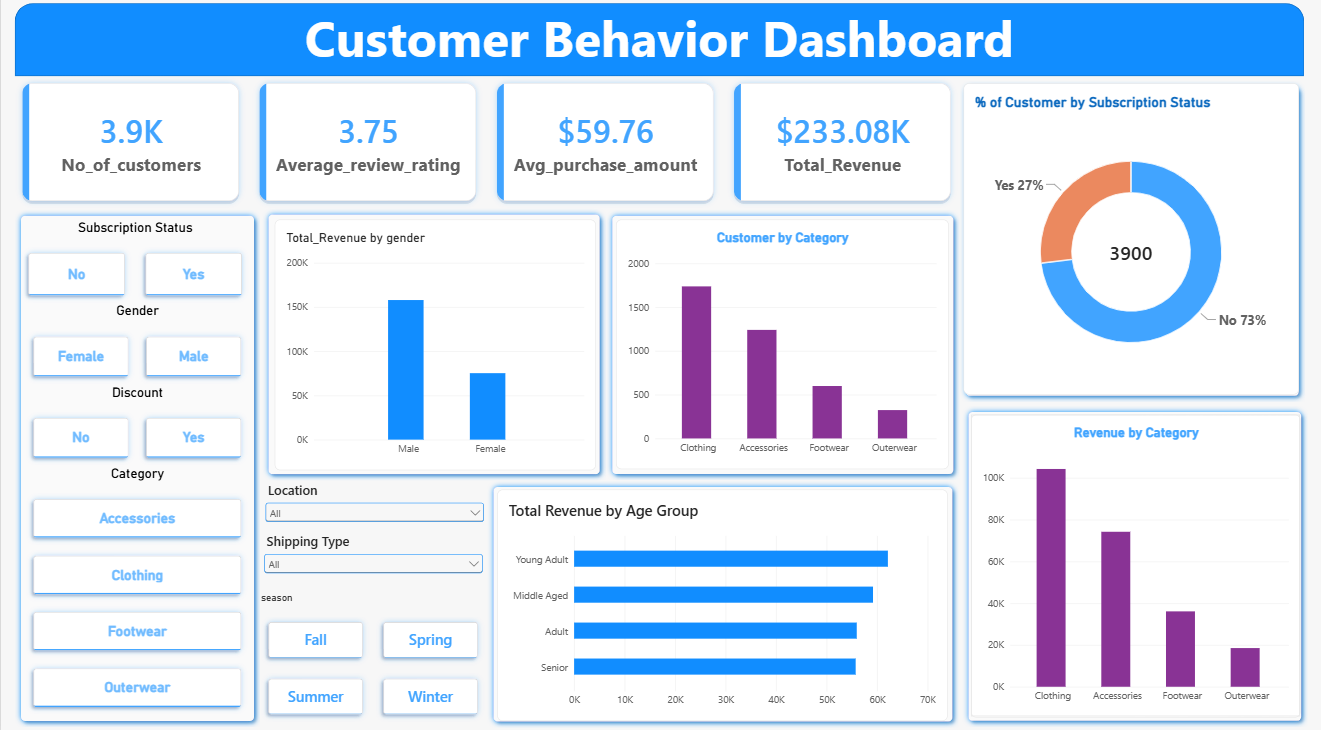

This screenshot's page, from the dashboard's own definition file:
{"tool":"powerbi","page":{"name":"Page 1","canvas":[1920,1080],"ordinal":0},"visuals":[{"type":"cardVisual","fields":{"Data":["customer_behavior customer.No_of_customers","customer_behavior customer.Average_review_rating","customer_behavior customer.Avg_purchase_amount","customer_behavior customer.Total_Revenue"]},"box":[20.4,122.4,1373.5,193.9],"z":0},{"type":"shape","box":[20.4,16.3,1875.5,106.1],"z":1},{"type":"textbox","box":[20.4,16.3,1875.5,106.1],"z":2},{"type":"shape","box":[1393.9,128.6,502,467.3],"z":3},{"type":"donutChart","title":"% of Customer by Subscription Status","fields":{"Category":["customer_behavior customer.subscription_status"],"Y":["customer_behavior customer.No_of_customers"]},"box":[1400,132.7,487.8,453.1],"z":4},{"type":"shape","box":[879.6,316.3,514.3,393.9],"z":5},{"type":"shape","box":[1398,602,502,467.3],"z":6},{"type":"clusteredColumnChart","title":"Revenue by Category","fields":{"Y":["Sum(customer_behavior customer.purchase_amount)"],"Category":["customer_behavior customer.category"]},"box":[1410.2,614.3,479.6,440.8],"z":7},{"type":"clusteredColumnChart","title":"Customer by Category","fields":{"Category":["customer_behavior customer.category"],"Y":["customer_behavior customer.No_of_customers"]},"box":[893.9,330.6,483.7,363.3],"z":8},{"type":"shape","box":[20.4,316.3,357.1,753.1],"z":9},{"type":"advancedSlicerVisual","title":"Subscription Status","fields":{"Values":["customer_behavior customer.subscription_status"]},"box":[28.6,330.6,332.7,122.4],"z":10},{"type":"advancedSlicerVisual","title":"Gender","fields":{"Values":["customer_behavior customer.gender"]},"box":[36.7,453.1,324.5,118.4],"z":11},{"type":"advancedSlicerVisual","title":"Discount","fields":{"Values":["customer_behavior customer.discount_applied"]},"box":[36.7,571.4,324.5,118.4],"z":12},{"type":"advancedSlicerVisual","title":"Category","fields":{"Values":["customer_behavior customer.category"]},"box":[36.7,689.8,324.5,365.3],"z":13},{"type":"shape","box":[708.2,710.2,685.7,359.2],"z":14},{"type":"clusteredBarChart","title":"Total Revenue by Age Group","fields":{"Category":["customer_behavior customer.age_group"],"Y":["customer_behavior customer.Total_Revenue"]},"box":[722.4,724.5,655.1,336.7],"z":15},{"type":"shape","box":[379.6,314.3,500,395.9],"z":16},{"type":"clusteredColumnChart","fields":{"Category":["customer_behavior customer.gender"],"Y":["customer_behavior customer.Total_Revenue"]},"box":[397.5,330,467.5,365],"z":17},{"type":"slicer","fields":{"Values":["customer_behavior customer.location"]},"box":[380,710,327.5,75],"z":18},{"type":"slicer","fields":{"Values":["customer_behavior customer.shipping_type"]},"box":[377.5,785,327.5,75],"z":19},{"type":"advancedSlicerVisual","fields":{"Values":["customer_behavior customer.season"]},"box":[377.5,872.5,327.5,190],"z":20}]}

Visuals, with their boxes in screenshot pixels (x1, y1, x2, y2), scaled from the page's 1920x1080 canvas onto the 1321x730 screenshot:
cardVisual - customer_behavior customer.No_of_customers x customer_behavior customer.Average_review_rating: (14,83,959,214)
shape: (14,11,1304,83)
textbox: (14,11,1304,83)
shape: (959,87,1304,403)
"% of Customer by Subscription Status" donutChart: (963,90,1299,396)
shape: (605,214,959,480)
shape: (962,407,1307,723)
"Revenue by Category" clusteredColumnChart: (970,415,1300,713)
"Customer by Category" clusteredColumnChart: (615,223,948,469)
shape: (14,214,260,723)
"Subscription Status" advancedSlicerVisual: (20,223,249,306)
"Gender" advancedSlicerVisual: (25,306,249,386)
"Discount" advancedSlicerVisual: (25,386,249,466)
"Category" advancedSlicerVisual: (25,466,249,713)
shape: (487,480,959,723)
"Total Revenue by Age Group" clusteredBarChart: (497,490,948,717)
shape: (261,212,605,480)
clusteredColumnChart - customer_behavior customer.gender x customer_behavior customer.Total_Revenue: (273,223,595,470)
slicer - customer_behavior customer.location: (261,480,487,531)
slicer - customer_behavior customer.shipping_type: (260,531,485,581)
advancedSlicerVisual - customer_behavior customer.season: (260,590,485,718)
